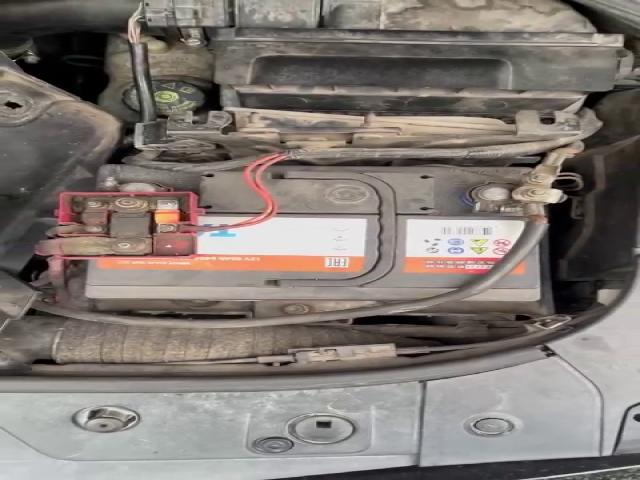accumulator: (37, 164, 564, 301)
